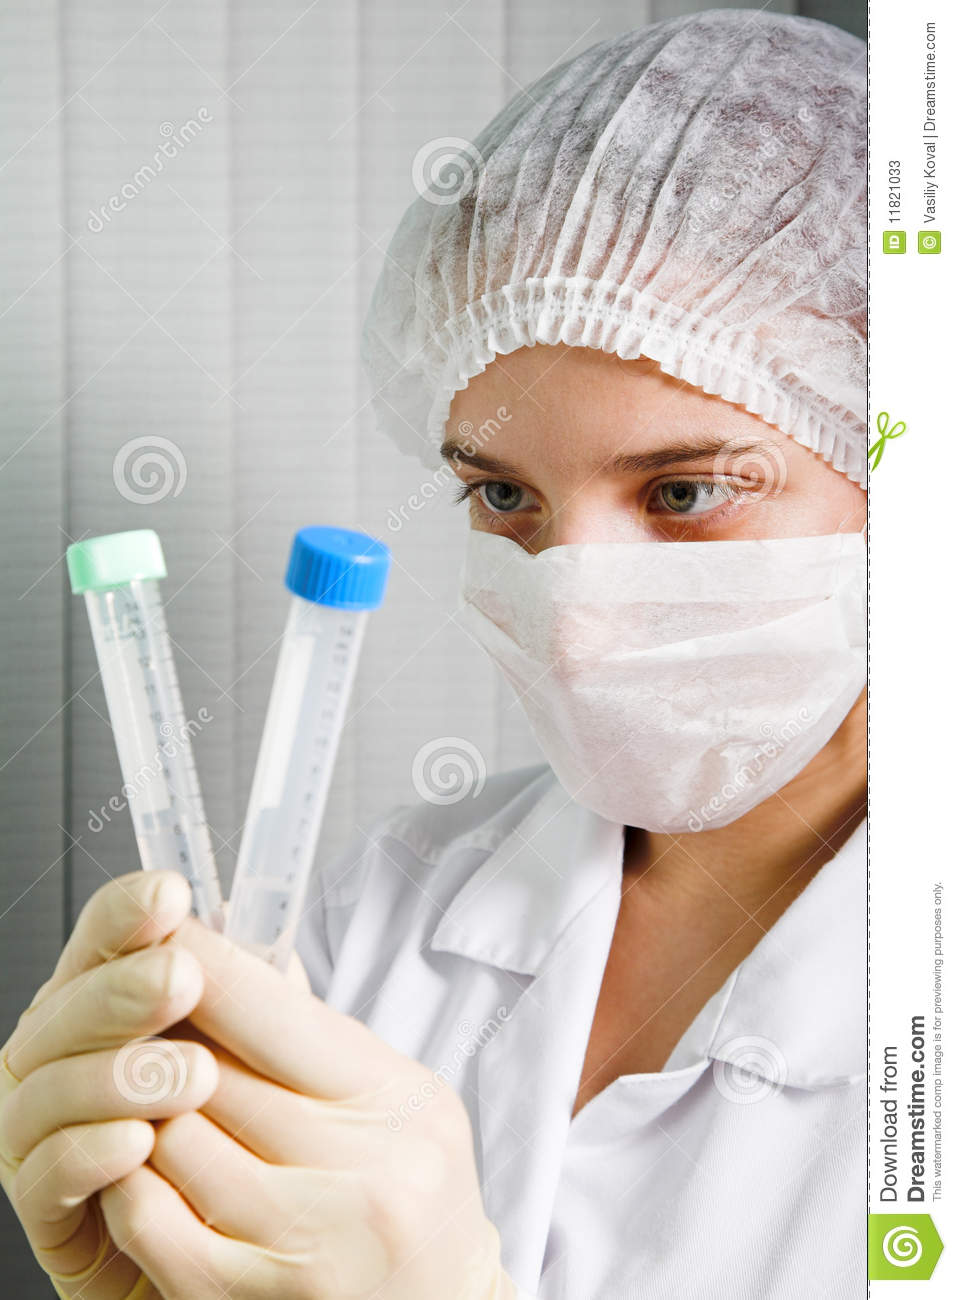mask: (450, 521, 884, 815)
